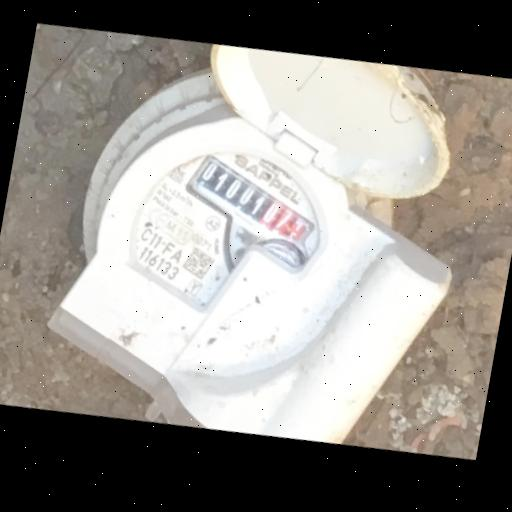0: (217, 170, 248, 207), (231, 179, 261, 215), (255, 195, 285, 231), (194, 154, 223, 190)
1: (242, 187, 273, 224), (205, 162, 234, 197)
4: (280, 209, 311, 247)
7: (266, 201, 299, 241)
border_water_meter_number: (173, 141, 327, 271)
